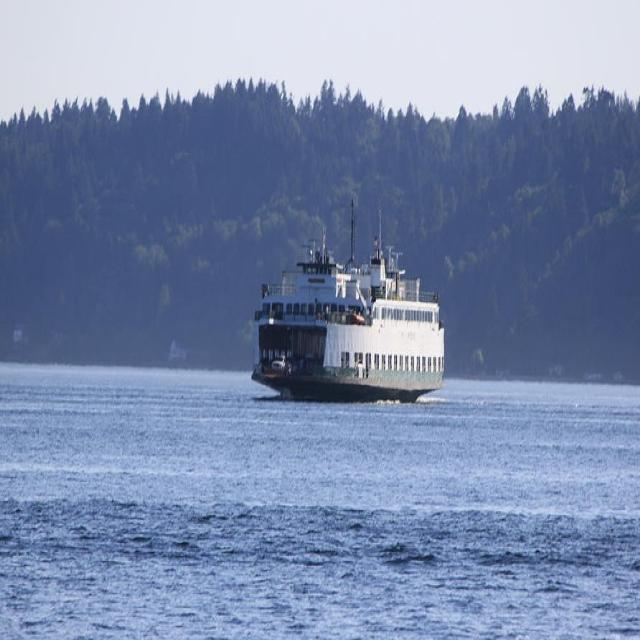passenger ship: (247, 206, 446, 407)
